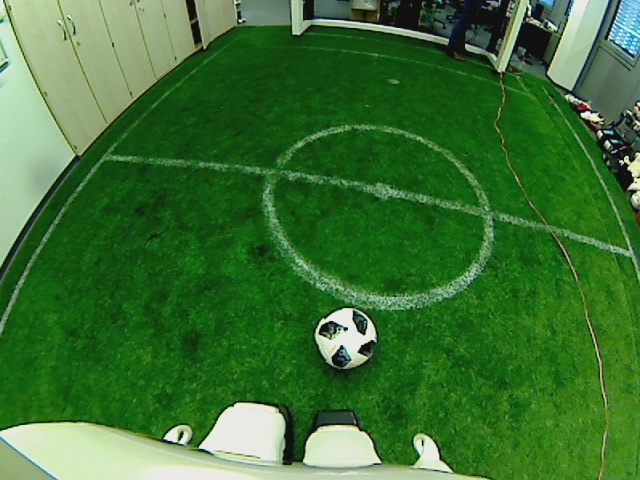ball: (312, 306, 378, 373)
